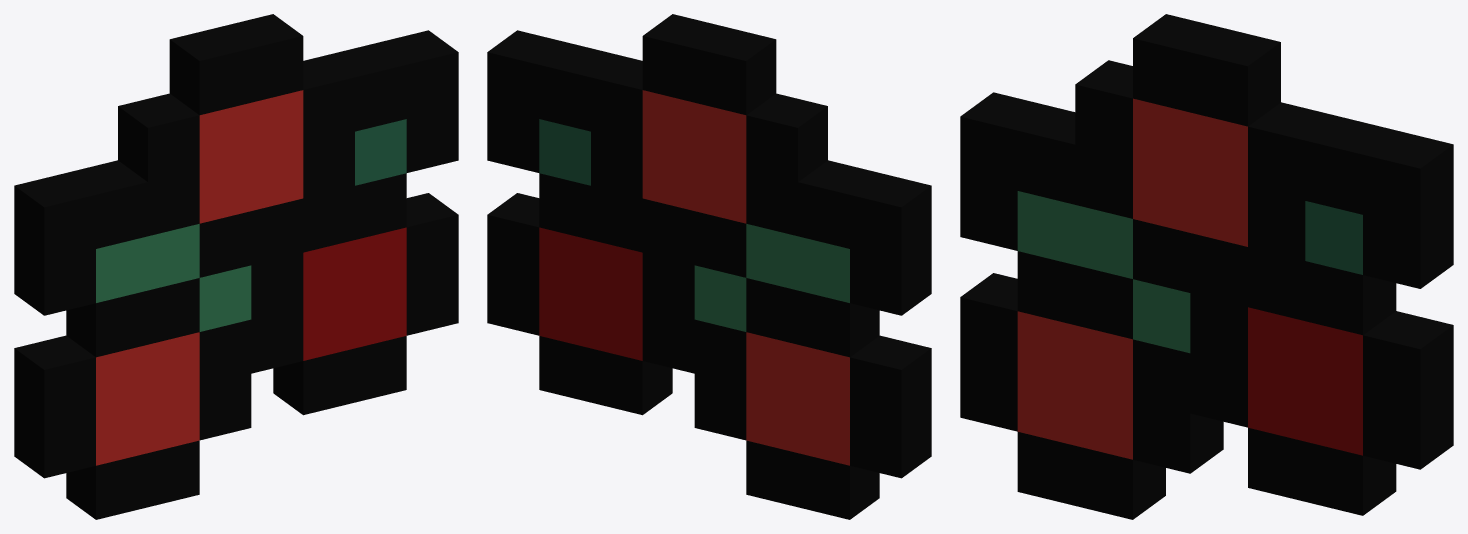
Rendered from Cranberries.glb.
The picture shows the model from 3 angles, left to right: view 1: azimuth 30°, elevation 25°; view 2: azimuth 150°, elevation 25°; view 3: azimuth 330°, elevation 25°; orthographic projection. The views are drawn at different scales.
Parts seen in each view (by area): view 1: generated(Clone); view 2: generated(Clone); view 3: generated(Clone).
Part boxes in pixels (<box>): generated(Clone): <box>14,14,458,519</box>; generated(Clone): <box>487,14,931,519</box>; generated(Clone): <box>960,14,1453,519</box>.
Bounding box in the file's own units: 8 × 8 × 1.
1 material, 1 textured.
